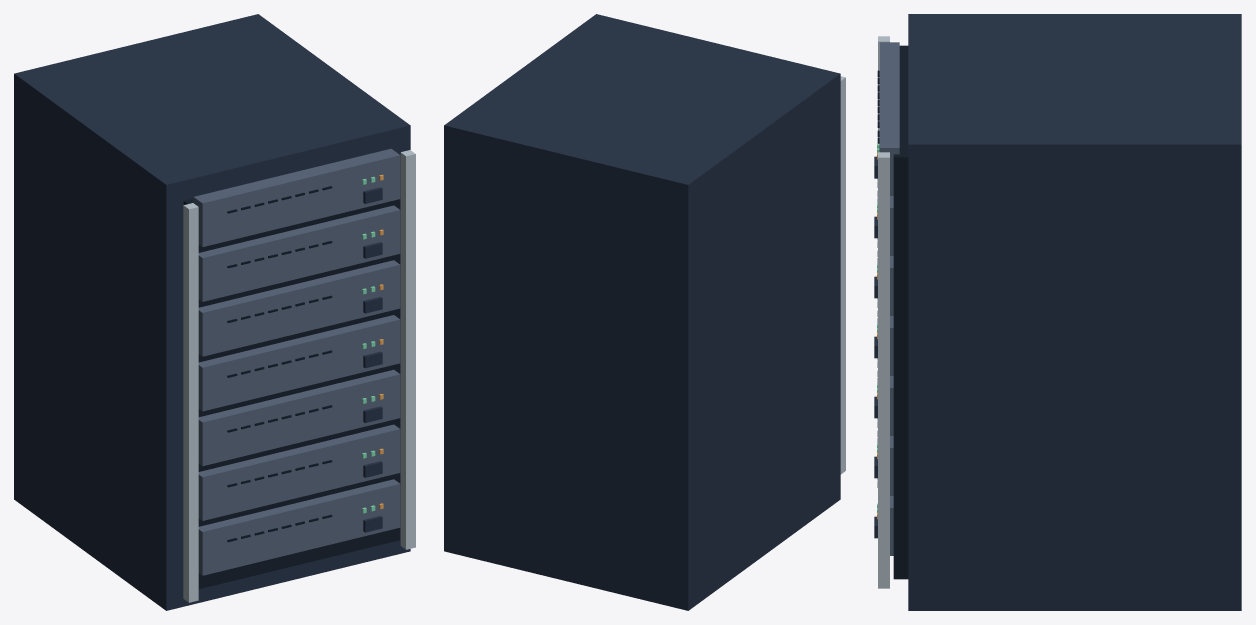
The model's file is officeServerCabinet.glb.
The picture shows the model from 3 angles, left to right: view 1: azimuth 30°, elevation 25°; view 2: azimuth 150°, elevation 25°; view 3: azimuth 270°, elevation 25°; orthographic projection. The views are drawn at different scales.
Size of the model in its own units: 0.63 by 1.05 by 0.75.
